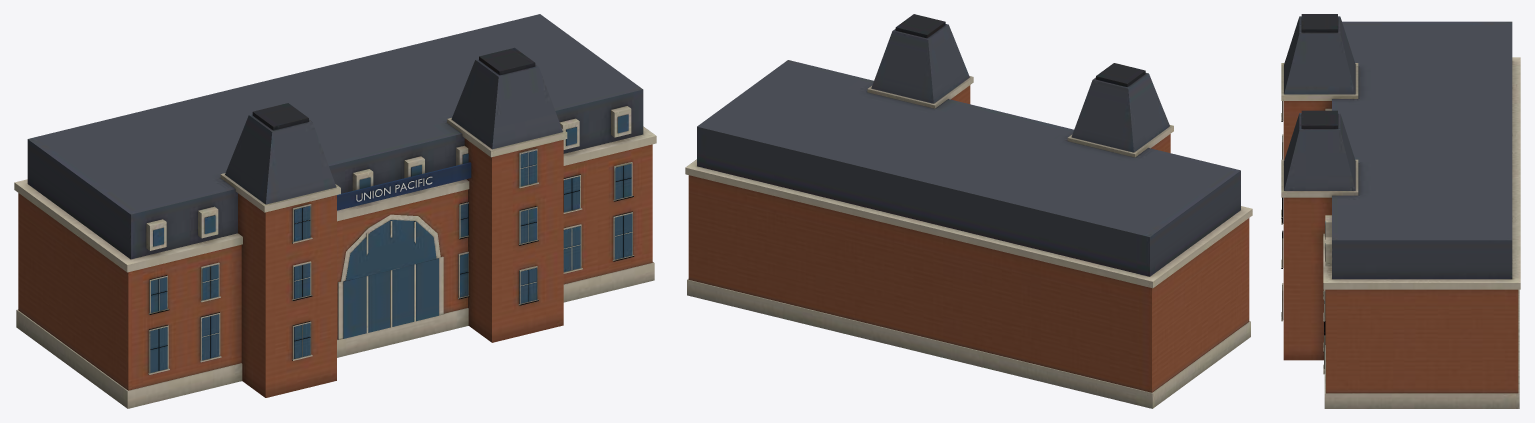
File: depot_slc.glb
3 renders of one model, left to right at view 1: azimuth 30°, elevation 25°; view 2: azimuth 150°, elevation 25°; view 3: azimuth 270°, elevation 25°, orthographic. The views are drawn at different scales.
Visible parts, largest first — view 1: depot_slc; view 2: depot_slc; view 3: depot_slc.
Part boxes in pixels (<box>): depot_slc: <box>14,14,656,408</box>; depot_slc: <box>685,14,1252,408</box>; depot_slc: <box>1281,14,1520,408</box>.
Bounding box in the file's own units: 44.4 × 20.8 × 19.91.
Materials: 1 (1 with a texture image).
